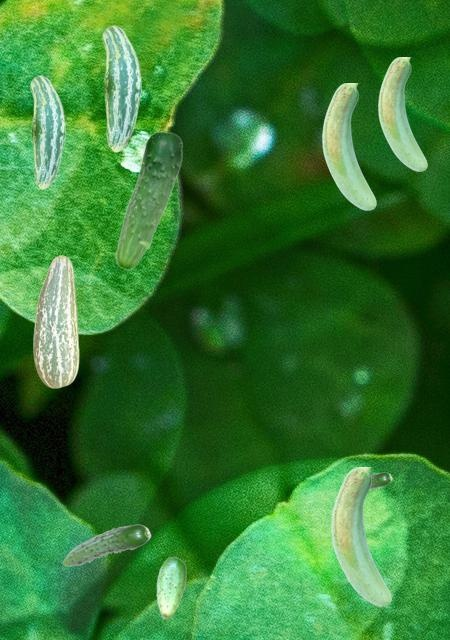cucumber: (114, 131, 182, 269), (331, 467, 390, 605), (322, 83, 375, 209), (33, 255, 78, 387), (378, 57, 426, 170), (102, 25, 140, 151), (30, 75, 64, 188), (62, 524, 150, 565), (156, 556, 185, 618), (370, 472, 391, 489)
